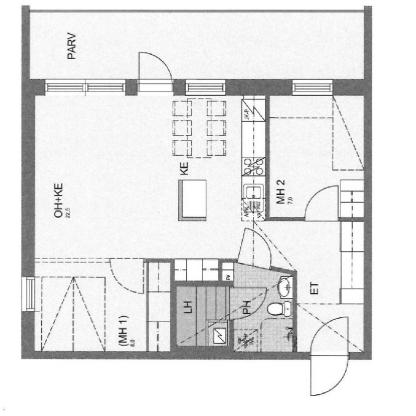door: (310, 313, 354, 399), (234, 222, 278, 274), (138, 50, 174, 98), (304, 178, 340, 224), (110, 256, 148, 297), (228, 285, 270, 321)
window: (291, 77, 334, 97), (185, 80, 227, 96), (87, 79, 123, 96), (19, 278, 35, 314), (46, 80, 84, 92)
zone: (35, 95, 362, 353), (29, 11, 363, 78), (35, 259, 176, 352), (271, 93, 362, 216), (232, 263, 301, 355), (175, 286, 231, 349)
